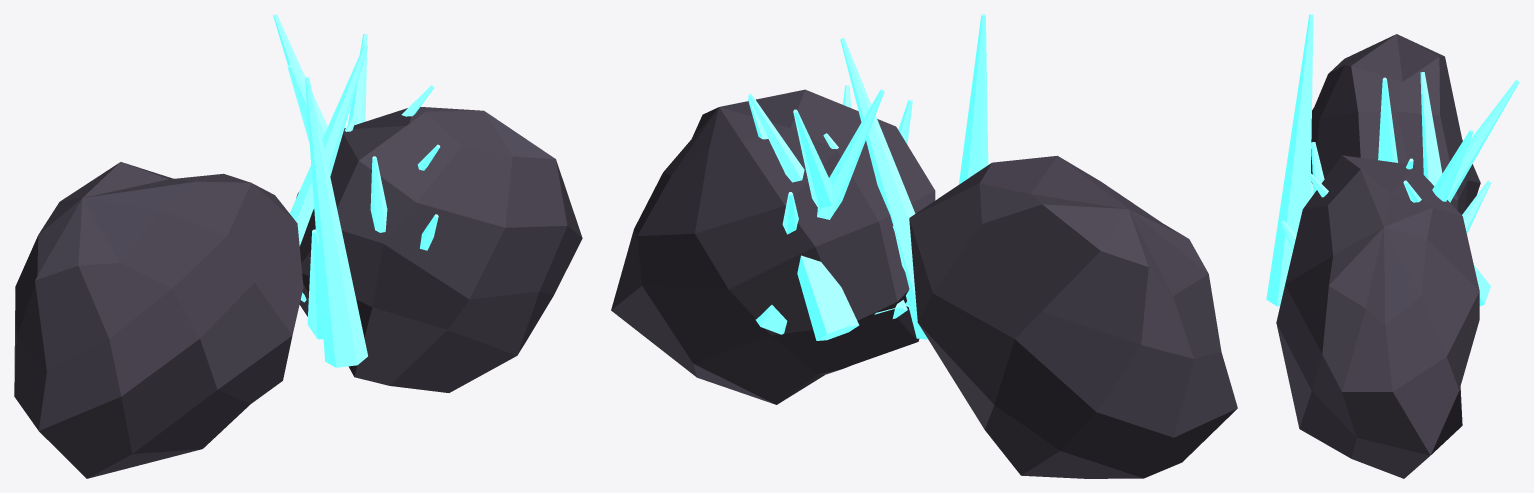
Rendered from poi_geode.glb.
3 views of the same model, side by side, from view 1: azimuth 30°, elevation 25°; view 2: azimuth 150°, elevation 25°; view 3: azimuth 270°, elevation 25° (orthographic). The views are drawn at different scales.
Visible parts, largest first — view 1: Half-1, Half1, Spike8, Spike12, Spike0, Spike4, Spike13, Spike5; view 2: Half-1, Half1, Spike12, Spike11, Spike8, Spike7, Spike13, Spike5; view 3: Half1, Half-1, Spike8, Spike7, Spike13, Spike12, Spike5, Spike11, Spike3, Spike4.
Part boxes in pixels (x1,y1,x2,y2): Half-1: (14, 162, 303, 478); Half1: (296, 107, 582, 392); Spike8: (305, 77, 367, 367); Spike12: (289, 44, 368, 246); Spike0: (307, 229, 323, 339); Spike4: (370, 156, 387, 232); Spike13: (273, 14, 327, 132); Spike5: (348, 34, 367, 124); Half-1: (909, 155, 1237, 478); Half1: (611, 89, 935, 404); Spike12: (840, 38, 927, 339); Spike11: (748, 98, 859, 340); Spike8: (959, 14, 988, 184); Spike7: (755, 89, 884, 334); Spike13: (793, 109, 832, 208); Spike5: (748, 94, 804, 182); Half1: (1276, 155, 1479, 478); Half-1: (1311, 34, 1480, 214); Spike8: (1266, 14, 1313, 306); Spike7: (1420, 72, 1442, 185); Spike13: (1447, 80, 1519, 202); Spike12: (1378, 77, 1397, 162); Spike5: (1432, 129, 1473, 201); Spike11: (1403, 180, 1490, 305); Spike3: (1462, 180, 1491, 233); Spike4: (1311, 142, 1324, 194).
Size of the model in its own units: 7.27 by 4.74 by 2.97.
